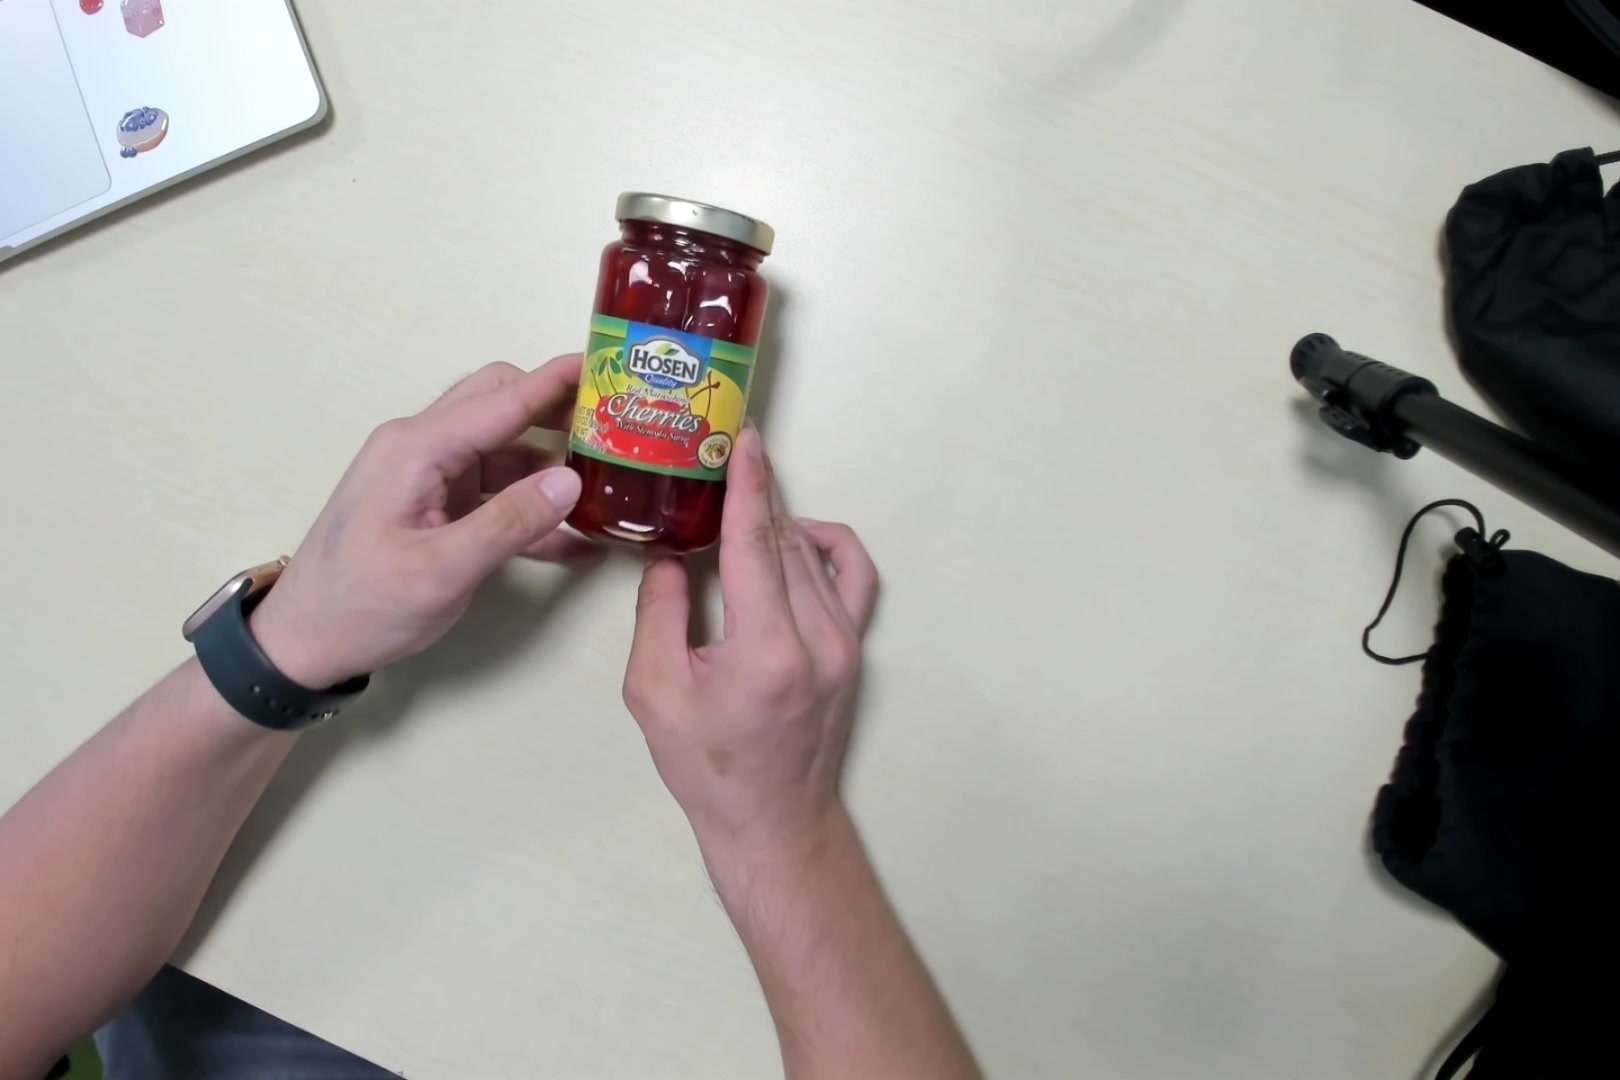OtherBakingNeeds_200-299g_NonHalal_NonHealthy: (569, 188, 769, 558)
